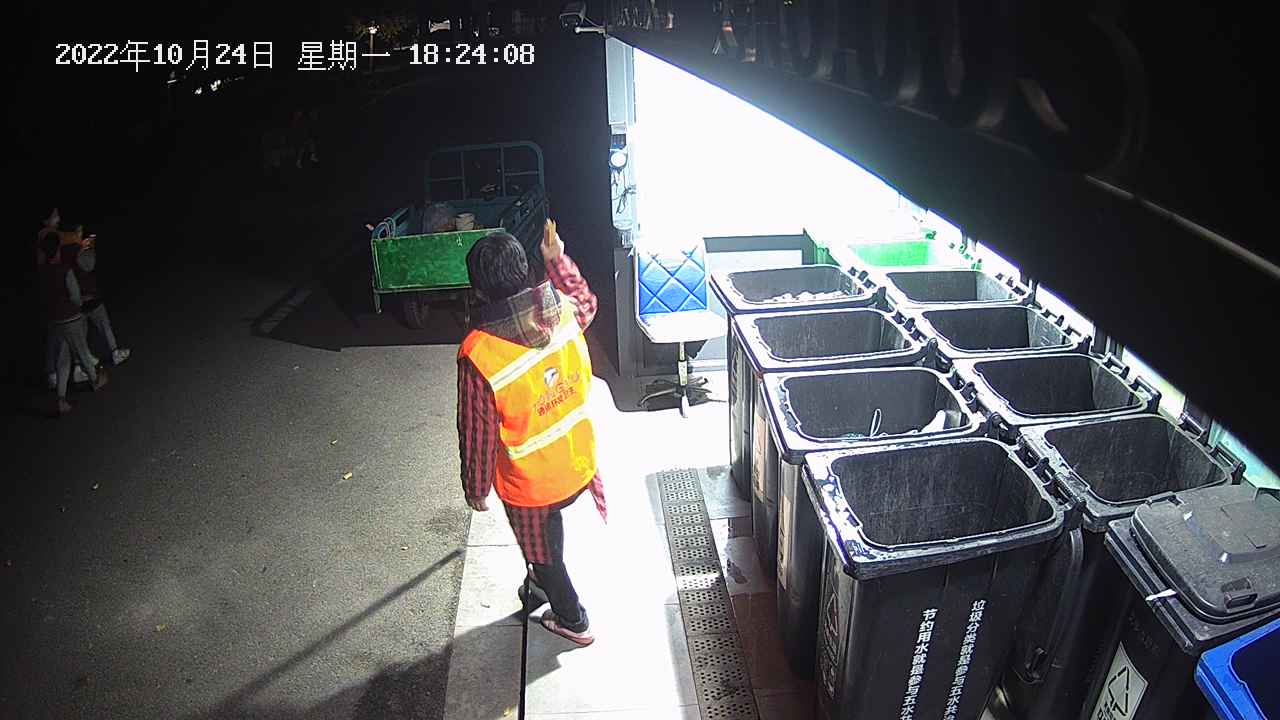worker: (454, 212, 610, 645)
